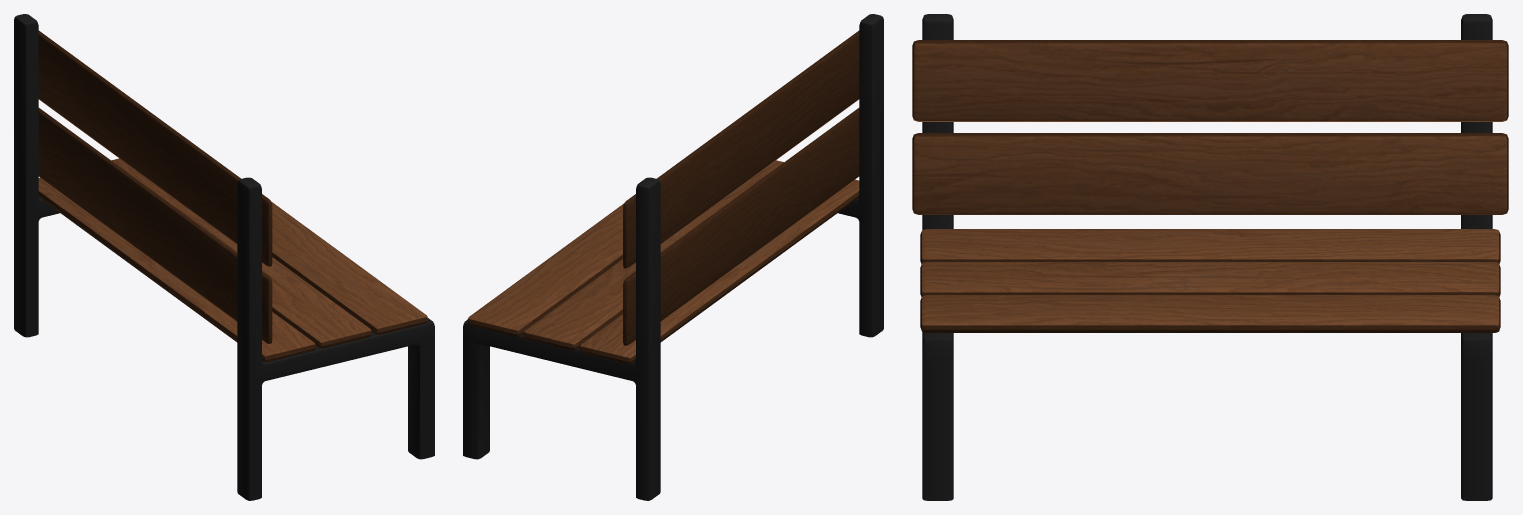
Rendered from Bench.fbx.
3 renders of one model, left to right at view 1: azimuth 30°, elevation 25°; view 2: azimuth 150°, elevation 25°; view 3: azimuth 270°, elevation 25°, orthographic. The views are drawn at different scales.
Parts seen in each view (by area): view 1: Box036; view 2: Box036; view 3: Box036.
Part boxes in pixels (<box>): Box036: <box>14,14,434,500</box>; Box036: <box>463,14,883,500</box>; Box036: <box>912,14,1508,500</box>.
Size of the model in its own units: 43.74 by 99.67 by 69.82.
